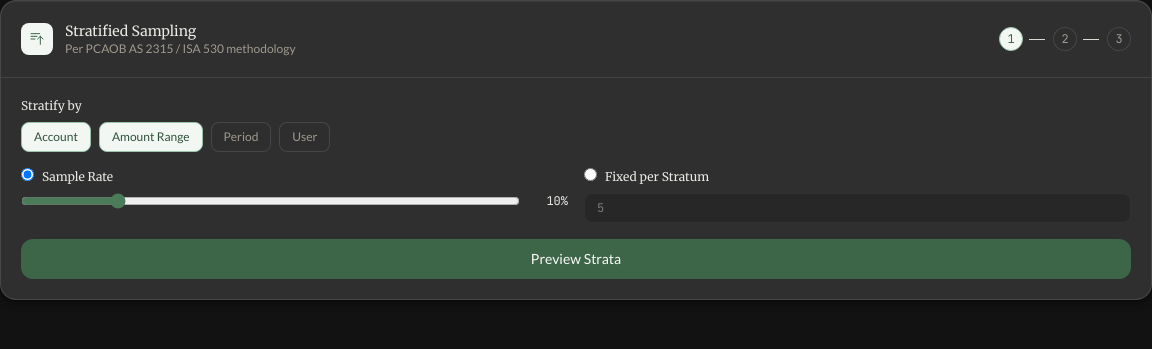
Test: SamplingPanel › shows error message when preview API fails
Click the button "Preview Strata": {"x": 576, "y": 259} [21,239,1131,279]
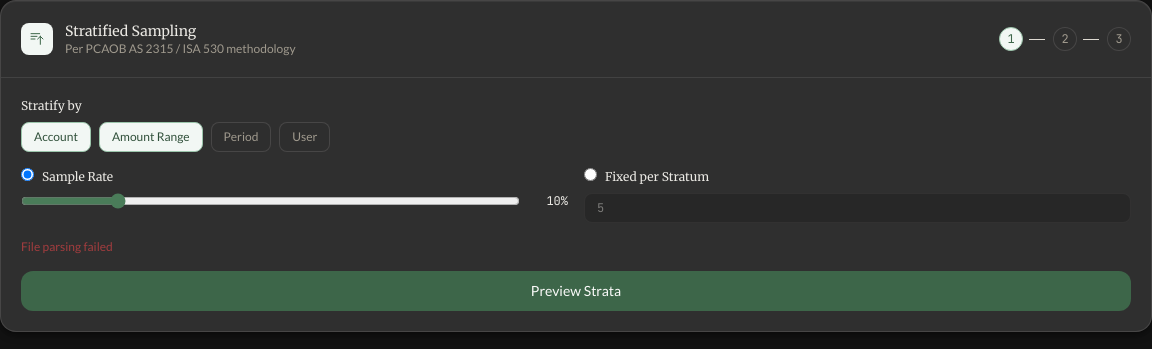
Expected: the text "File parsing failed" is shown, [21,239,113,254]
